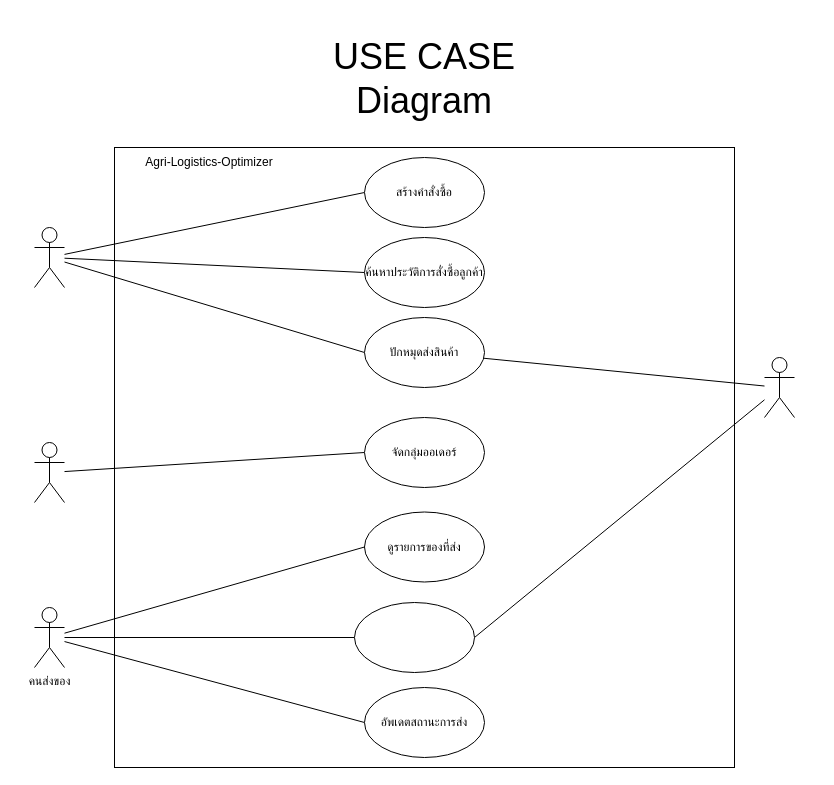
The diagram is 834 pixels wide and 785 high, and some of its shapes have lost their labels. The shapes that lost their labels are listed below. From the top down, each one's centre as x and y in pixels, then its label:
At (49,257): "พนักงาน/Staff".
At (779,387): "MAPBOX API SERVICE".
At (49,472): "เจ้าของร้าน/ แอดมิน".
At (414,637): "ดูเส้นทางการจัดส่ง".
